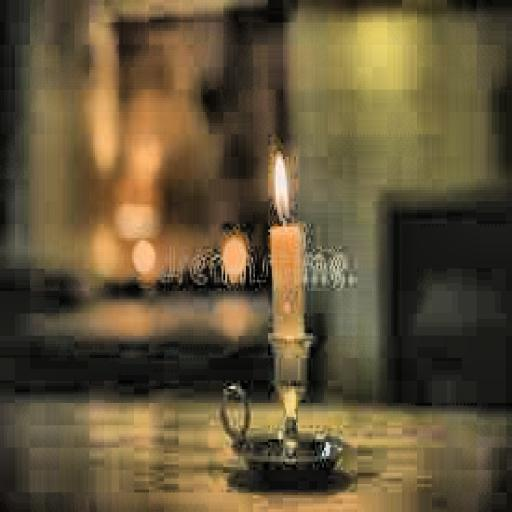fire: (268, 146, 302, 235)
